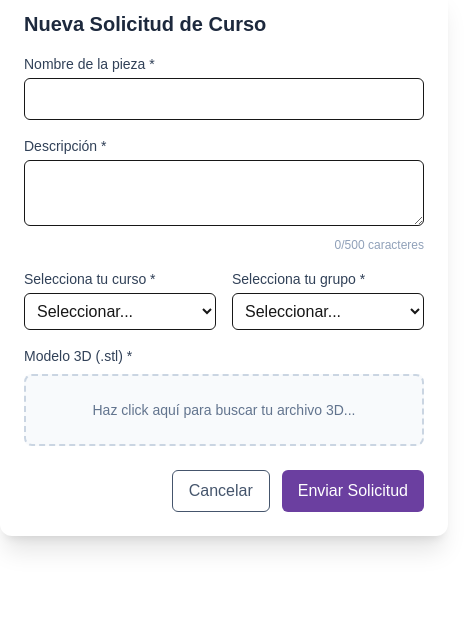
Test: IMP-02: Formulario de Solicitud (Estudiante) › muestra el mensaje de un error que no es instancia de Error
In the field labelled "Nombre de la pieza *": (224, 99) [24,78,424,120], type "Engranaje Proyecto"
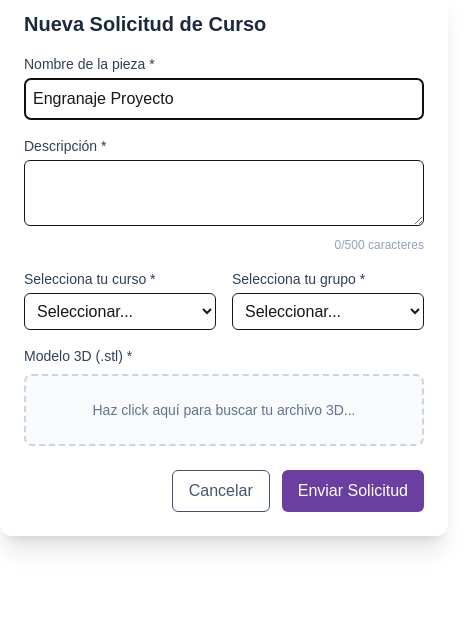
In the text box labelled "Descripción *": (224, 193) [24,160,424,226], type "Pieza para robótica"
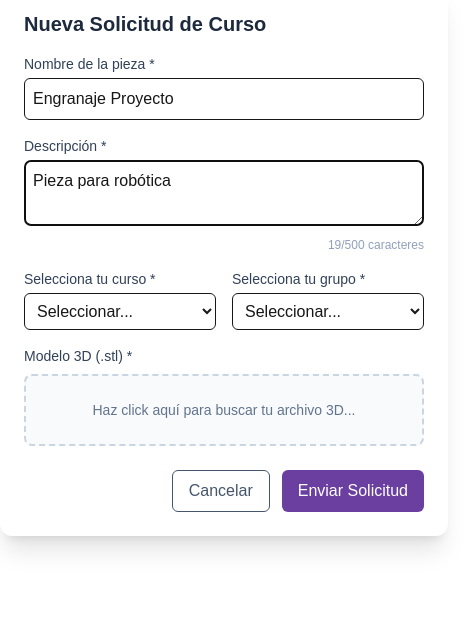
Select "Mock DB" in the dropdown labelled "Selecciona tu curso *": (120, 312) [24,293,216,330]
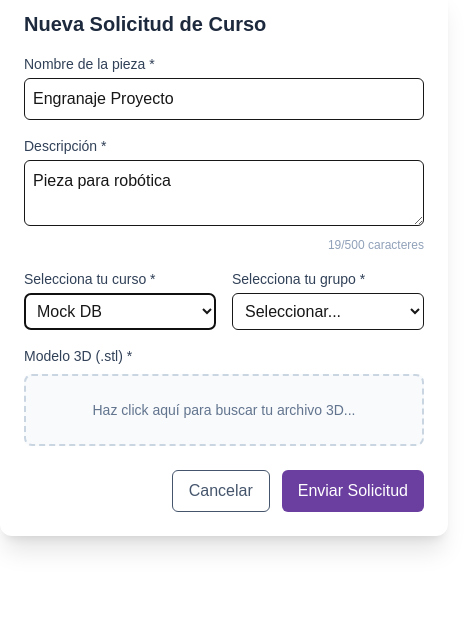
Select "Mock DB" in the dropdown labelled "Selecciona tu grupo *": (328, 312) [232,293,424,330]
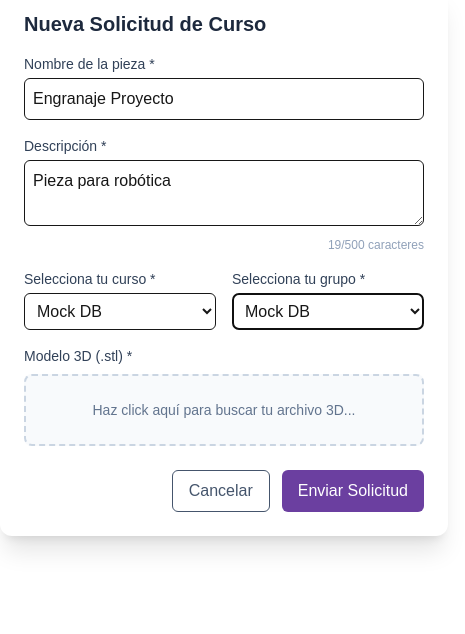
Submit the form from the button "Enviar Solicitud", box [282,470,424,512]
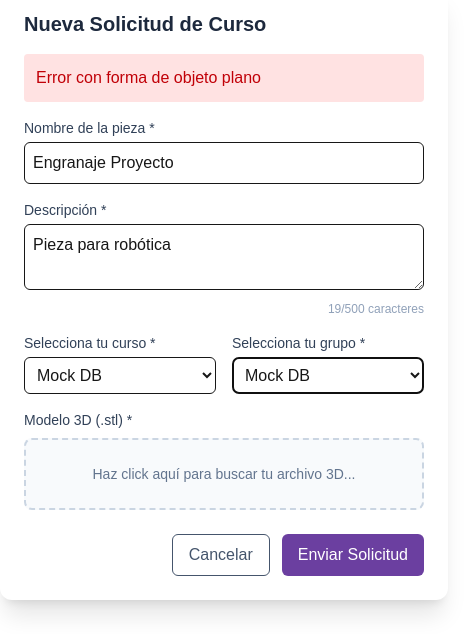
Result: the text "Error con forma de objeto plano" is shown at [24,54,424,102]
